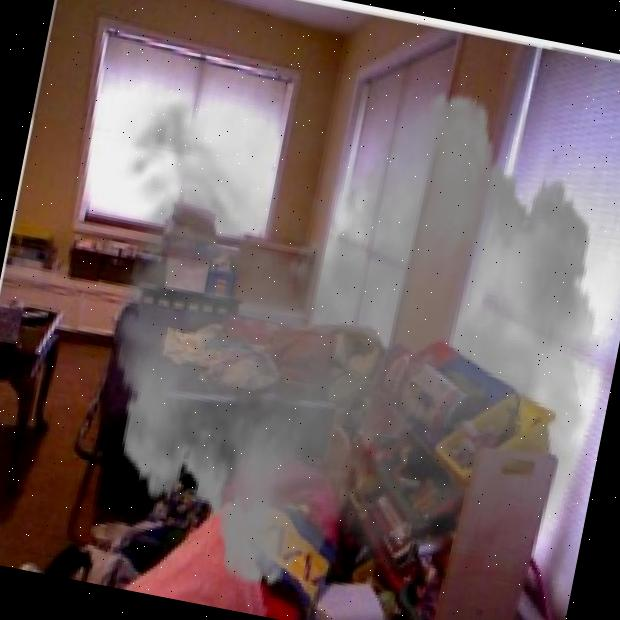smoke: (32, 14, 620, 620)
